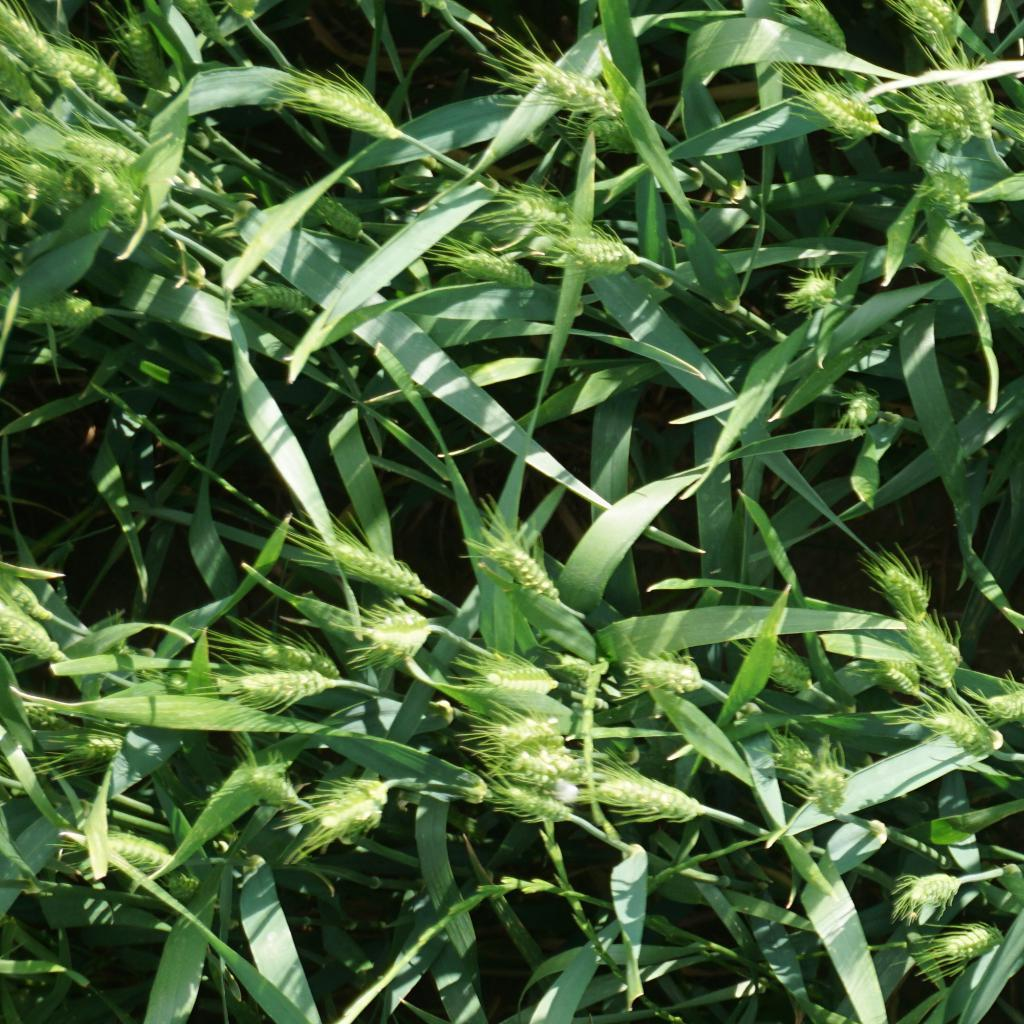0-0: (4, 139, 114, 224), (525, 52, 626, 118), (65, 821, 181, 873), (81, 158, 159, 229), (297, 82, 399, 136), (333, 538, 429, 594), (310, 773, 391, 839), (801, 76, 884, 140), (440, 239, 544, 288), (588, 771, 693, 819), (963, 248, 1022, 330), (903, 606, 960, 690), (465, 778, 570, 823), (225, 662, 342, 702), (5, 15, 69, 88), (775, 0, 851, 60), (941, 55, 994, 137), (18, 288, 111, 334), (50, 47, 126, 103), (493, 535, 556, 602), (903, 705, 991, 751), (246, 636, 336, 679), (61, 133, 162, 171), (2, 594, 61, 659), (743, 637, 811, 693), (926, 919, 1008, 965), (296, 1, 344, 78), (116, 18, 163, 94), (907, 97, 974, 146), (878, 556, 927, 621), (370, 602, 429, 655), (564, 231, 638, 273), (634, 648, 706, 690), (904, 0, 949, 65), (476, 662, 562, 696), (924, 86, 997, 125), (900, 867, 963, 912), (304, 190, 365, 235), (232, 279, 312, 310), (787, 267, 839, 313), (0, 573, 55, 615), (510, 751, 594, 778), (482, 716, 563, 743), (871, 653, 927, 690), (811, 759, 850, 809), (580, 114, 640, 145), (913, 171, 963, 208), (837, 395, 884, 434), (233, 772, 297, 800), (989, 680, 1024, 723), (512, 197, 573, 221), (777, 733, 814, 772), (67, 738, 137, 757)
